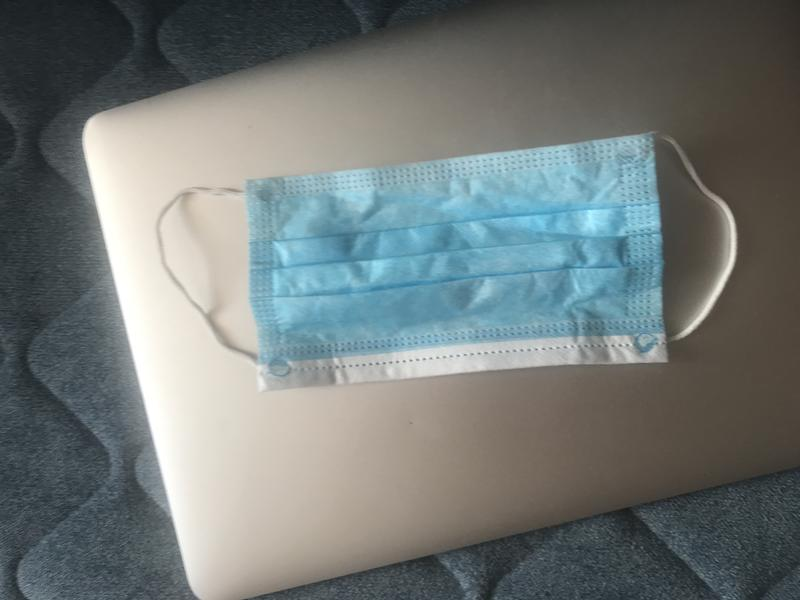medical_mask: (157, 134, 736, 385)
